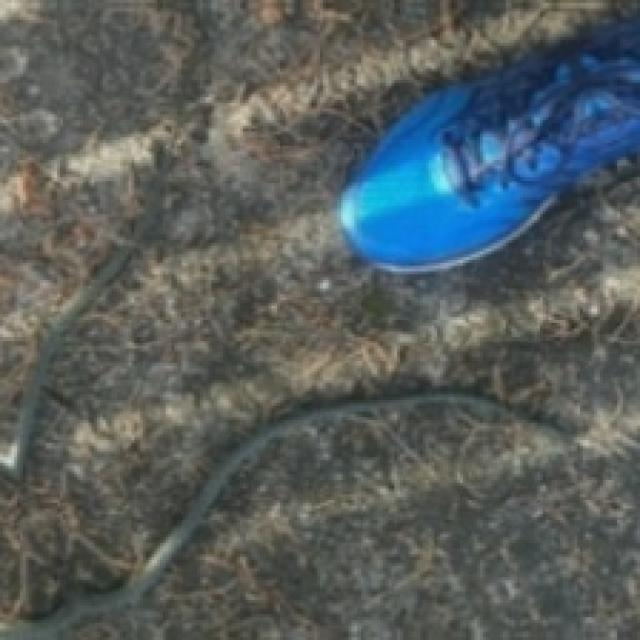paradise tree snake: (337, 17, 637, 269)
